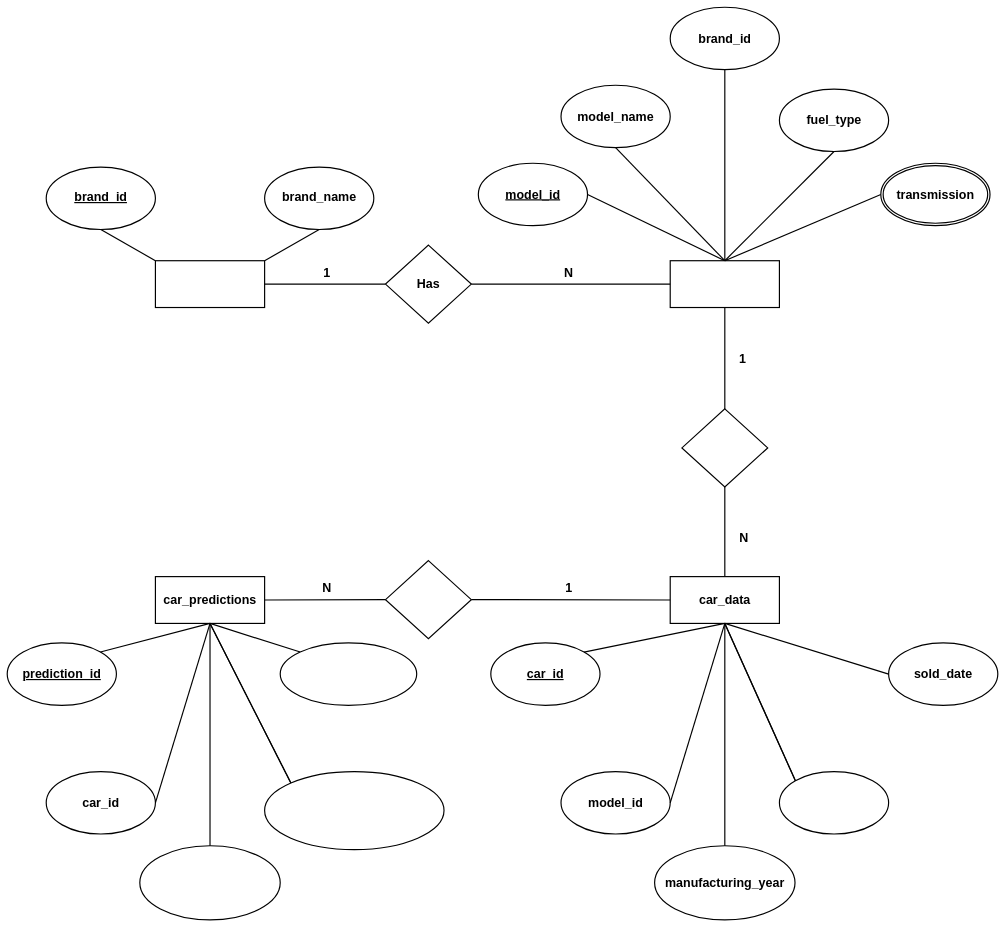
This 1005x927 diagram has some shape labels left out. The box of each missing label's shape, as (x1, y1, x2, y2) in pixels:
brands: (155, 260, 265, 308)
describes: (681, 408, 768, 487)
Is Predicted: (385, 560, 472, 639)
mileage: (779, 771, 889, 834)
models: (669, 260, 780, 308)
predicted_price: (139, 845, 281, 920)
predicted_validity_years: (264, 771, 444, 850)
sell_recommended: (279, 642, 417, 706)
